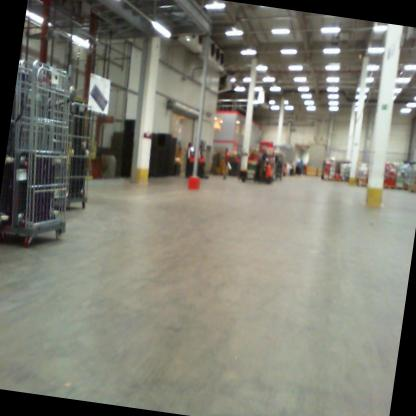pallet_truck: (234, 143, 280, 190), (177, 136, 212, 178)
